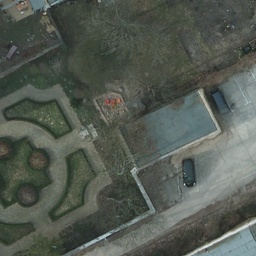car: (208, 88, 232, 118), (180, 156, 197, 189)
